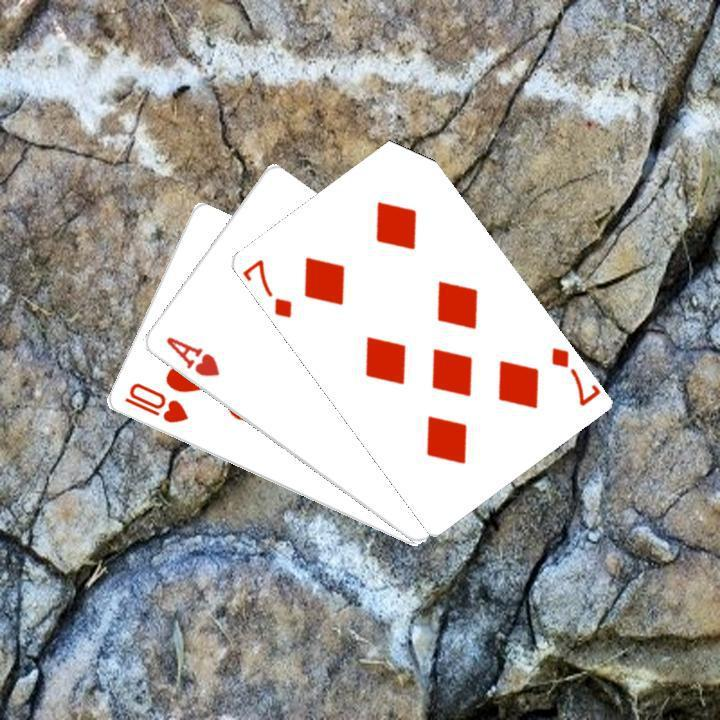10: (120, 378, 190, 426)
7: (239, 254, 294, 321), (545, 343, 599, 409)
A: (160, 332, 222, 379)
